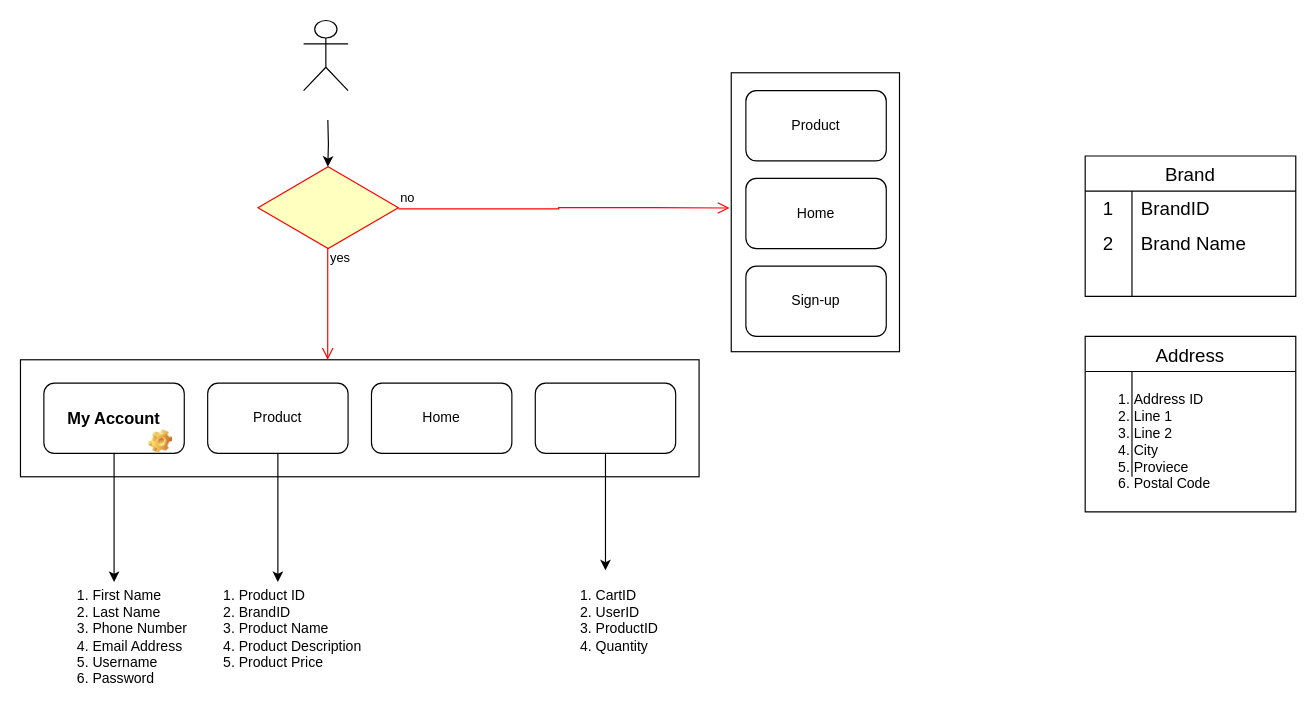
The diagram is 1316 pixels wide and 708 high, and some of its shapes have lost their labels. The centre of each missing label's shape, as x and y in pixels:
Cart: the point at 605,417
Log-in: the point at 327,207
User: the point at 325,55
